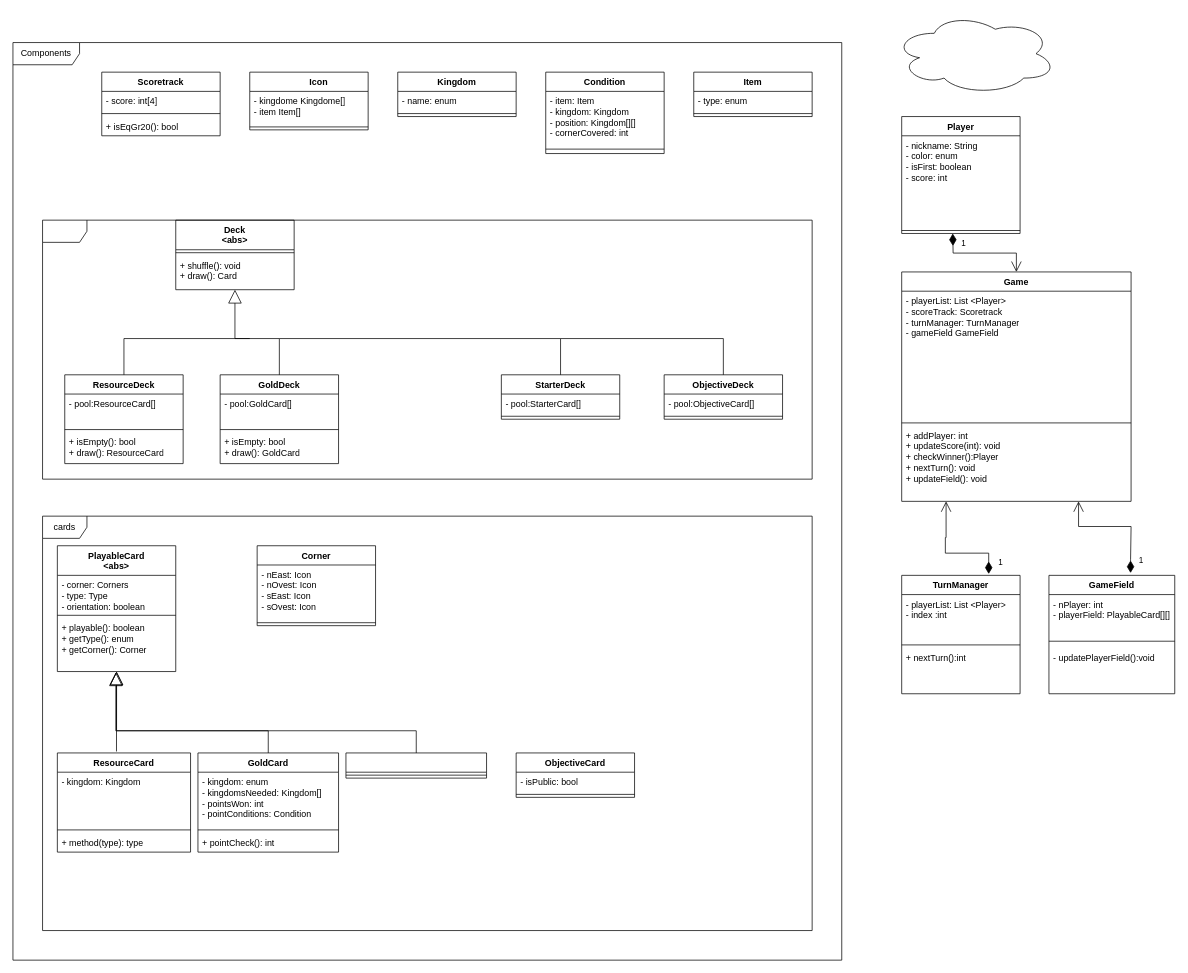
The diagram is 1188 pixels wide and 973 high, and some of its shapes have lost their labels. Each missing label, with the centre of its shape:
"decks" belongs at point (427, 349).
"Everything has a proper getter method!" belongs at point (974, 53).
"StarterCard" belongs at point (416, 765).
